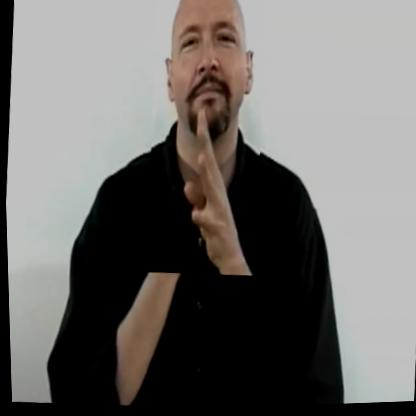Talk: (138, 0, 273, 281)
